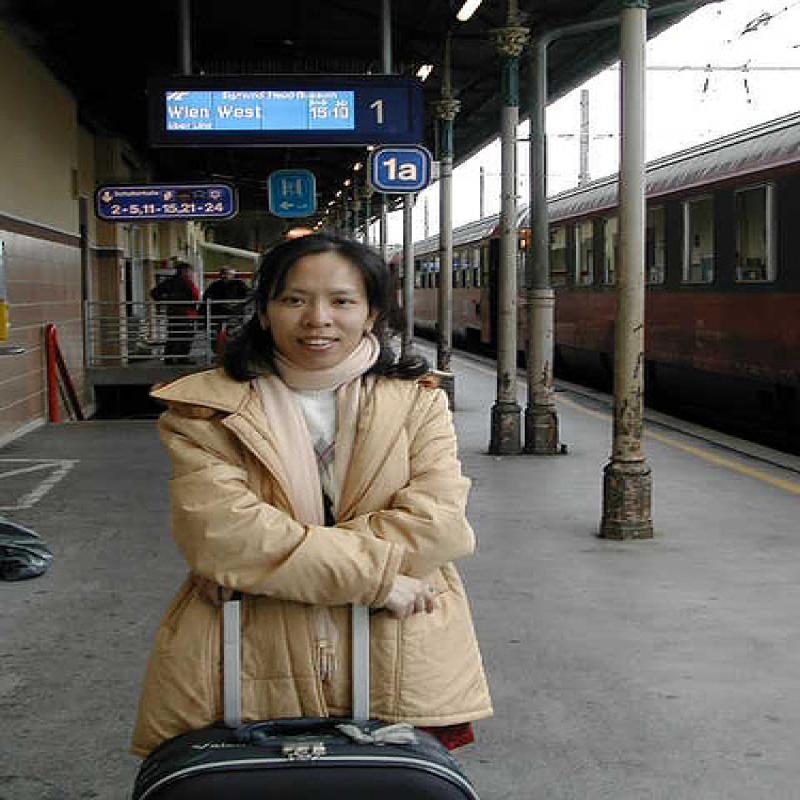train: (387, 112, 799, 453)
